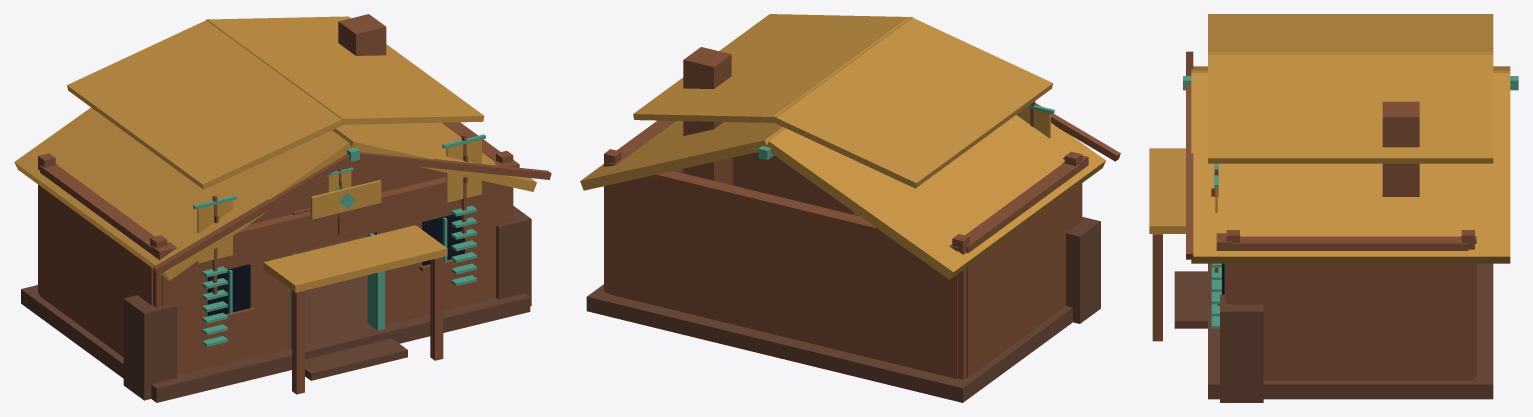
Rendered from hall_orc_lv2.glb.
The picture shows the model from 3 angles, left to right: view 1: azimuth 30°, elevation 25°; view 2: azimuth 150°, elevation 25°; view 3: azimuth 270°, elevation 25°; orthographic projection. The views are drawn at different scales.
Parts seen in each view (by area): view 1: hall_orc_lv2; view 2: hall_orc_lv2; view 3: hall_orc_lv2.
Boxes of the visible parts, x1,y1,x2,y2 form: hall_orc_lv2: (14, 14, 551, 402); hall_orc_lv2: (580, 14, 1120, 402); hall_orc_lv2: (1149, 14, 1518, 402).
Bounding box in the file's own units: 28.54 × 16.5 × 22.
